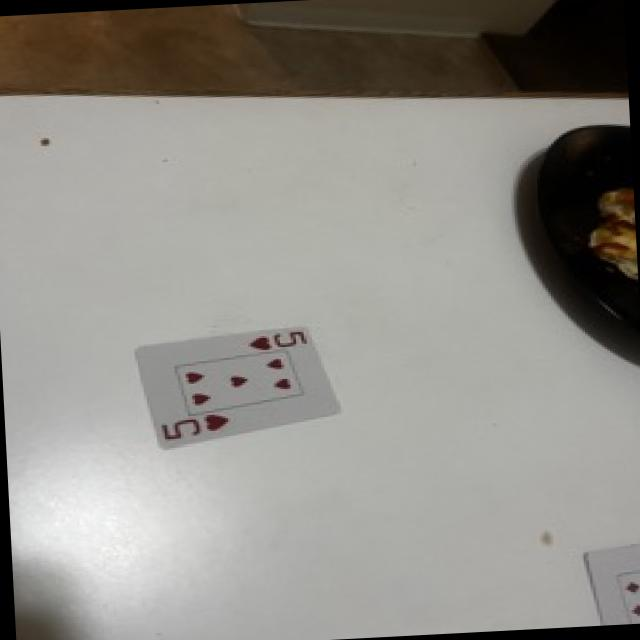5 of diamonds: (138, 328, 339, 447)
